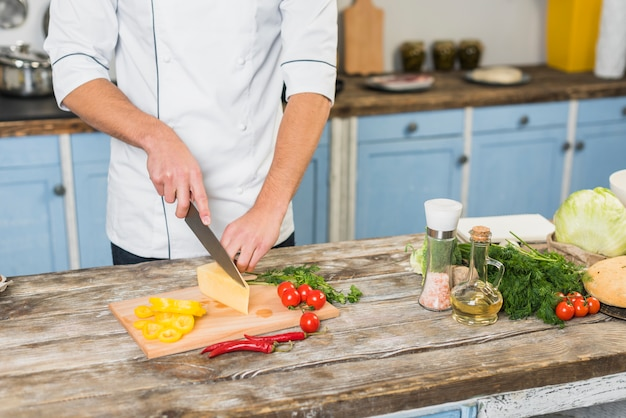knife: (184, 198, 245, 287)
